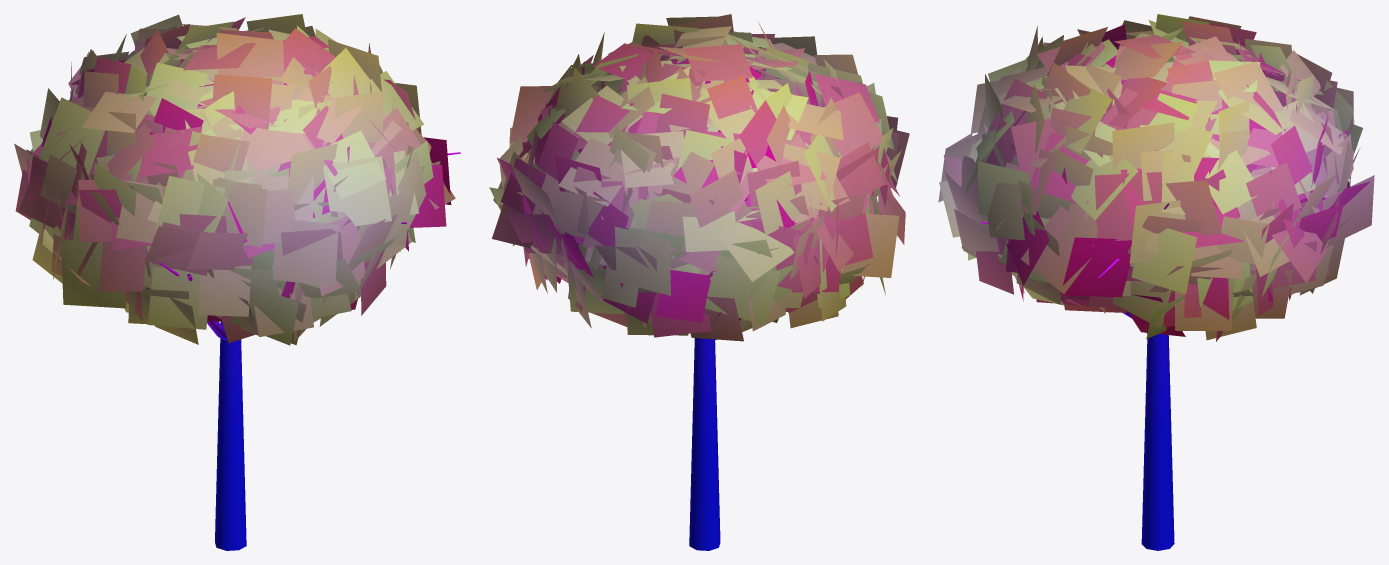
Rendered from red_maple_a_LODs.glb.
The picture shows the model from 3 angles, left to right: view 1: azimuth 30°, elevation 25°; view 2: azimuth 150°, elevation 25°; view 3: azimuth 270°, elevation 25°; orthographic projection.
Parts seen in each view (by area): view 1: red_maple_a_LOD0; view 2: red_maple_a_LOD0; view 3: red_maple_a_LOD0.
Part boxes in pixels (x1,y1,x2,y2): red_maple_a_LOD0: (14, 14, 460, 550); red_maple_a_LOD0: (489, 14, 909, 550); red_maple_a_LOD0: (938, 14, 1374, 550).
Size of what is drawn, in the model's own units: 9.82 by 12.27 by 9.67.
